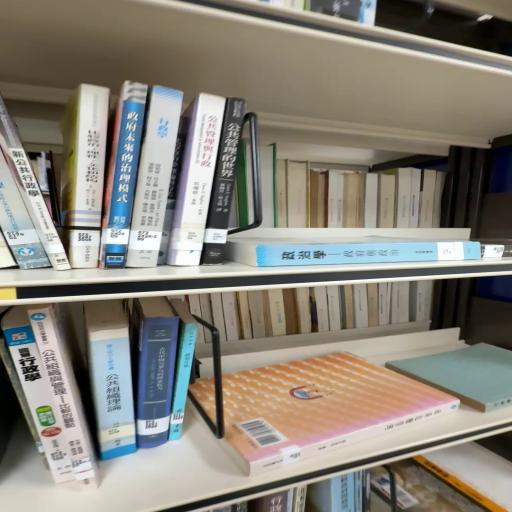flat: (221, 353, 460, 476), (224, 235, 479, 268)
